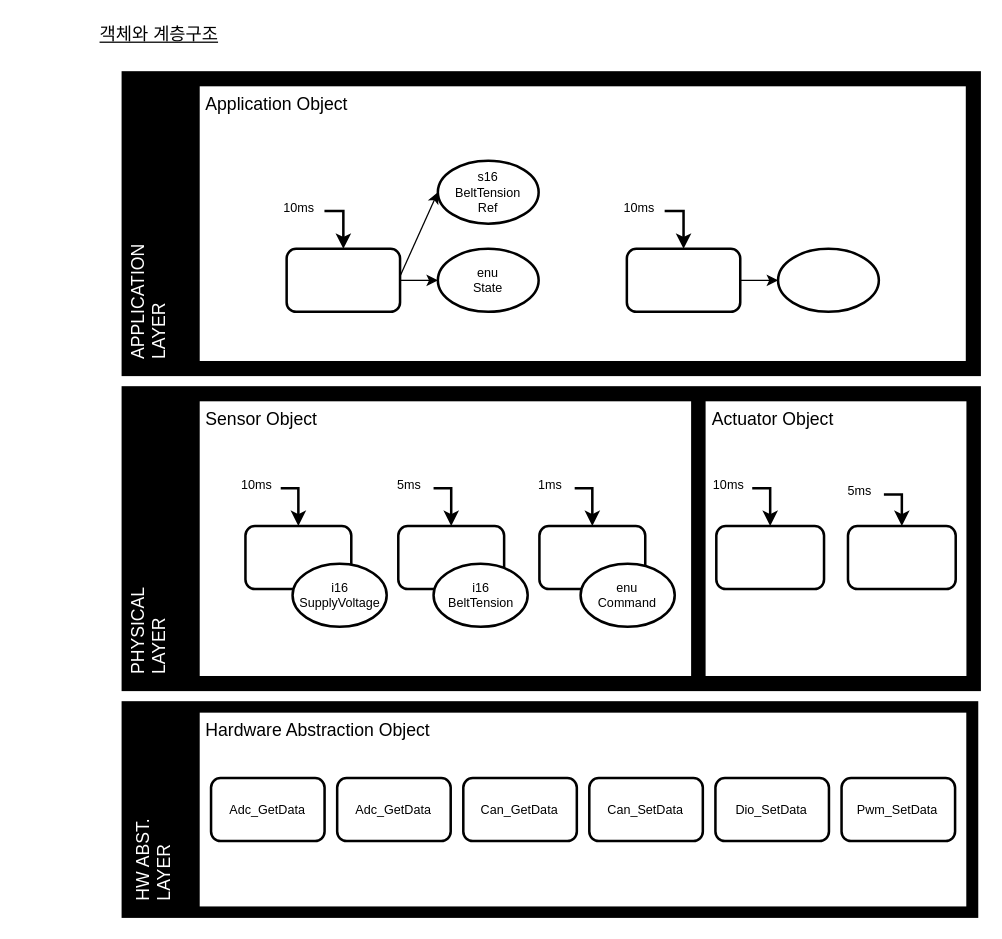
This 1002x939 diagram has some shape labels left out. The shapes that lost their labels are listed below. From the top down, each one's centre as x and y in pixels, then its label:
(343,279): ControlState
(683,279): CheckError
(827,279): u8 ErrorCode
(298,557): Measure SupplyVoltage
(450,557): Receive Command
(592,557): Measure BeltTension
(769,557): DriveMotor
(901,557): Transmit State
